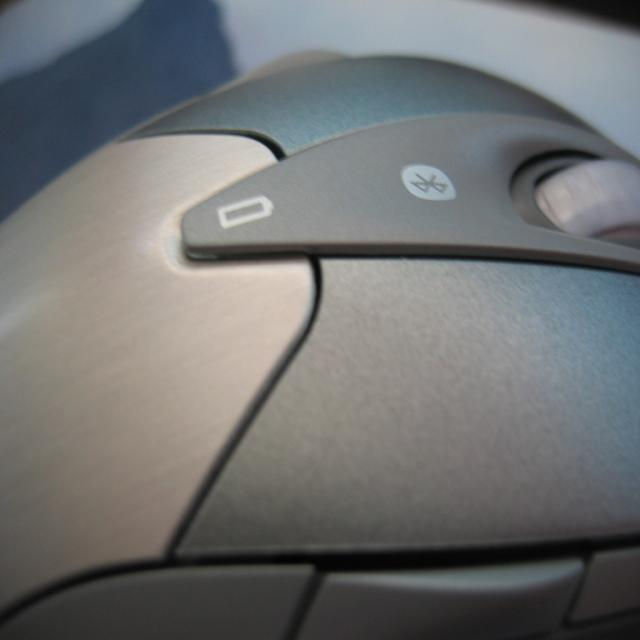Computer-mouse: (0, 46, 640, 640)
